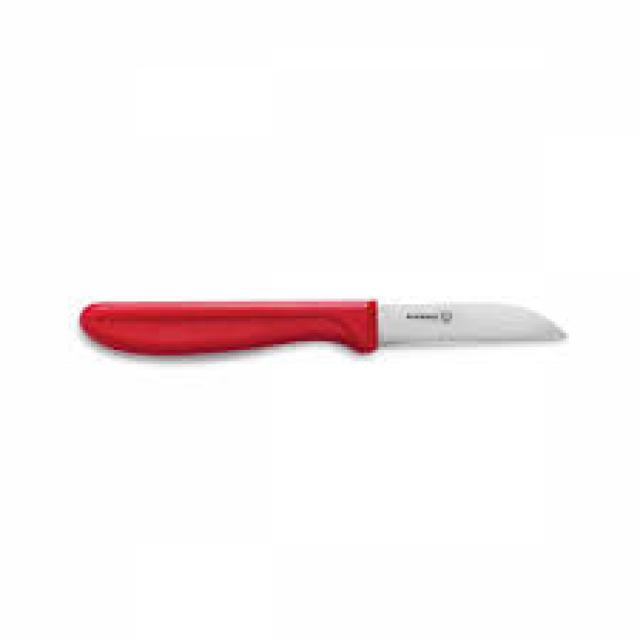knife: (75, 296, 578, 367)
